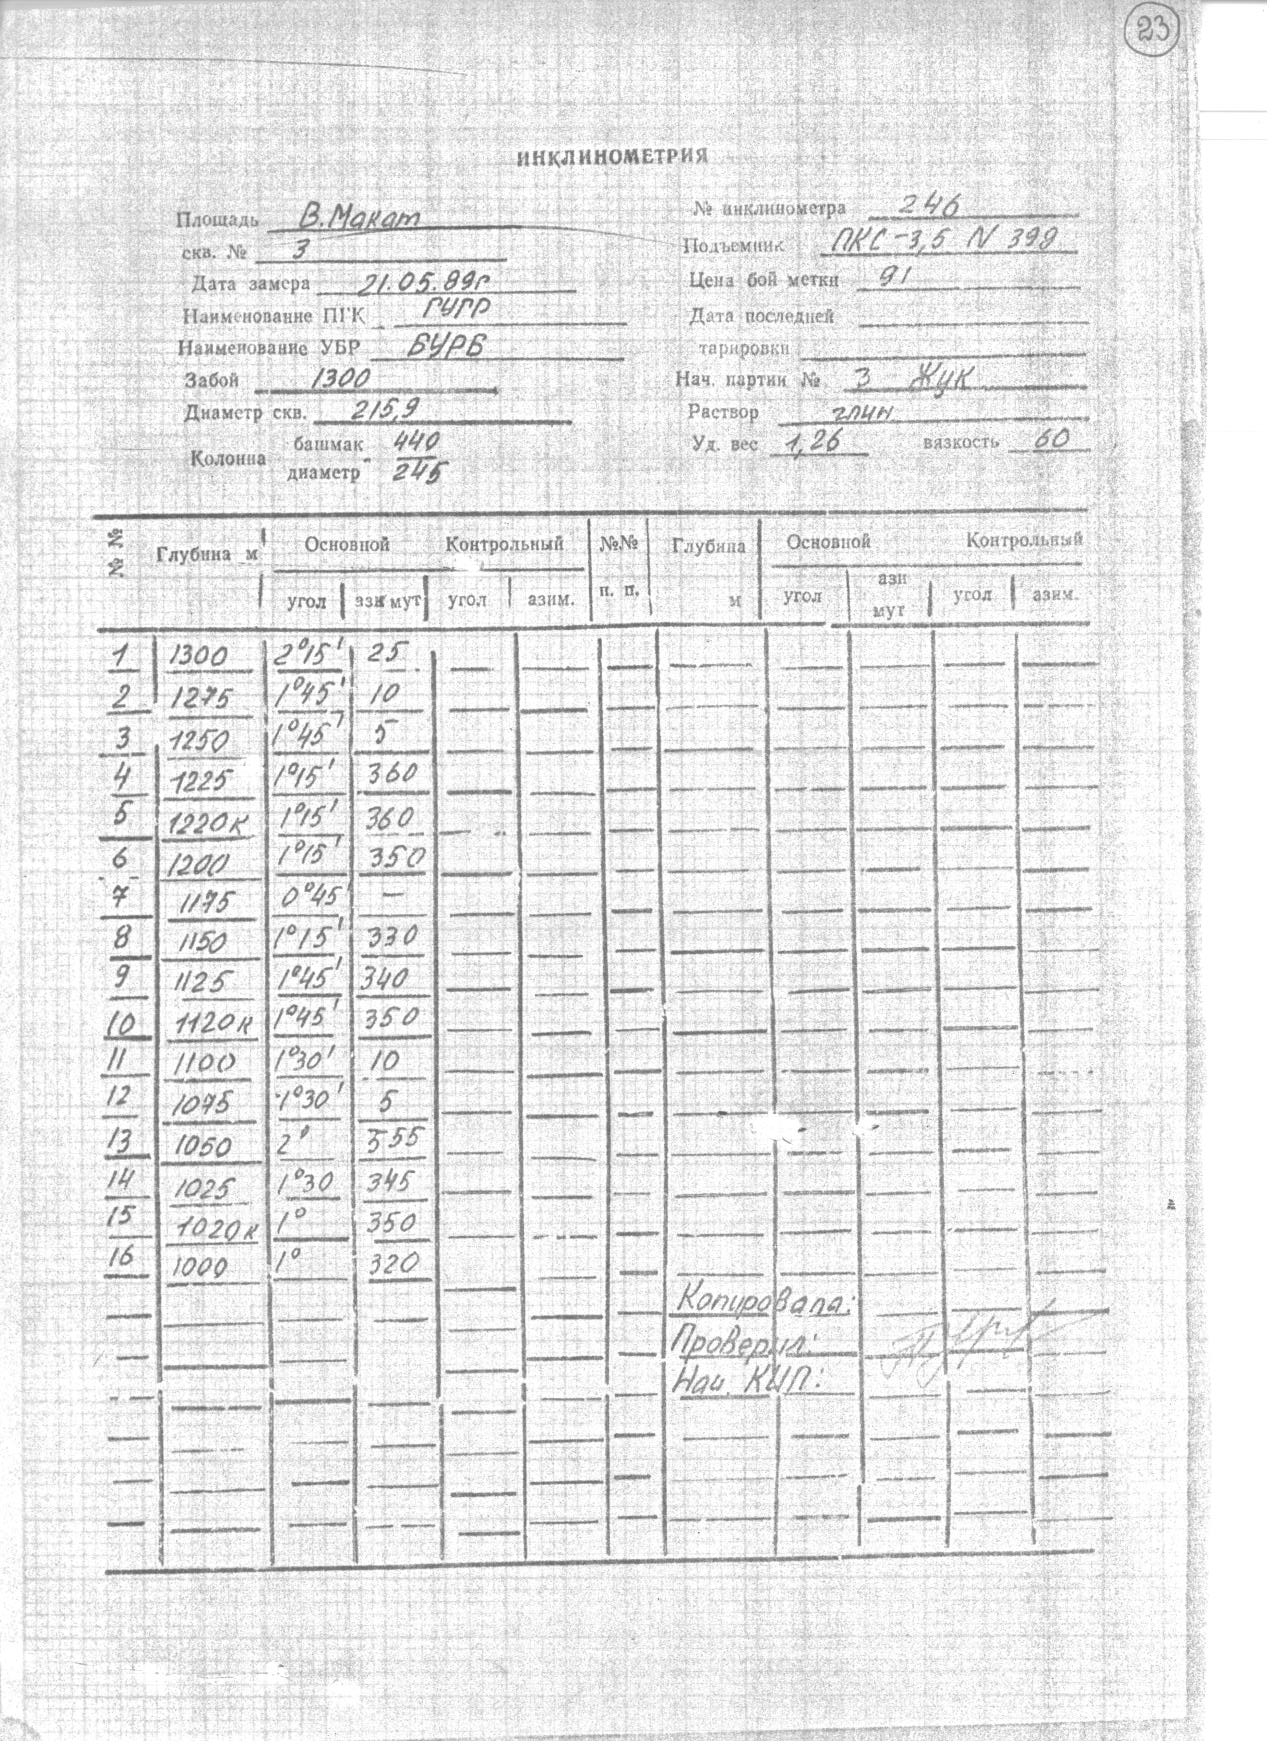Borderless: (98, 517, 1147, 1553)
